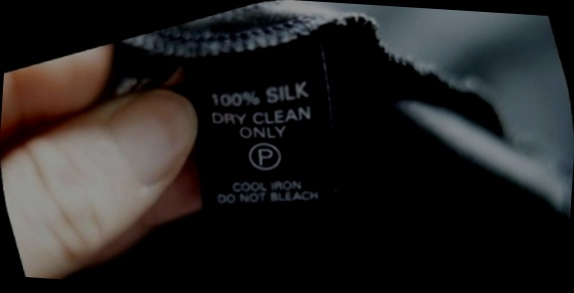dry_clean_any_solvent_except_trichloroethylene: (239, 130, 292, 181)
